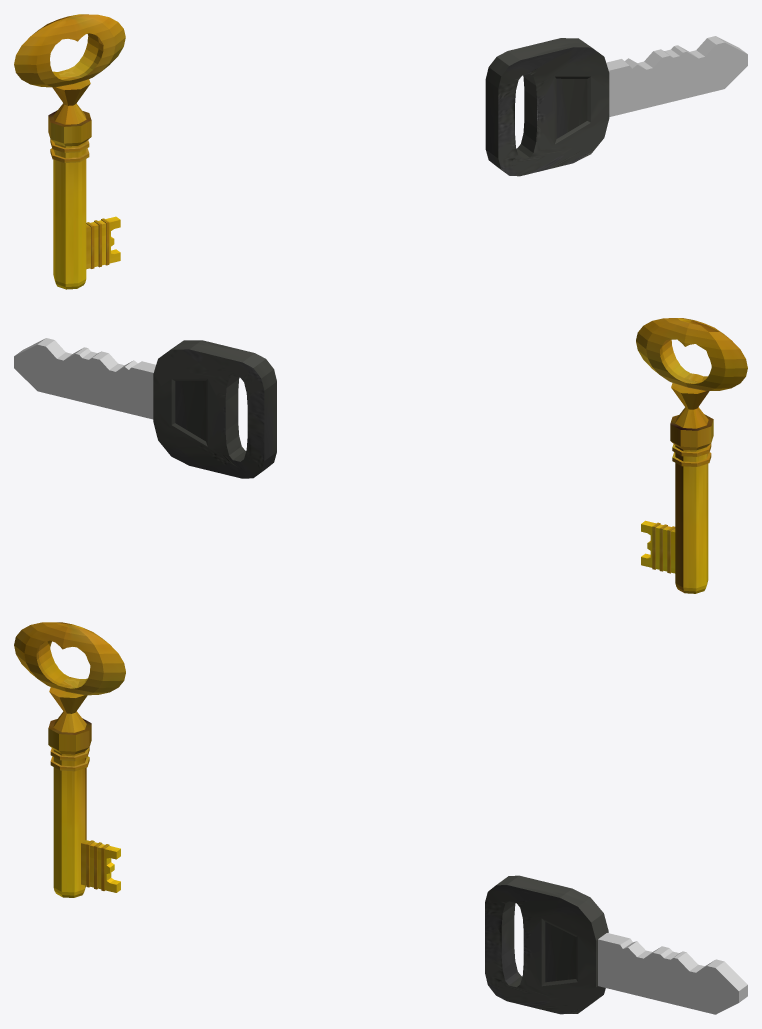
File: llavecitas.fbx
3 views of the same model, one above another, from view 1: azimuth 30°, elevation 25°; view 2: azimuth 150°, elevation 25°; view 3: azimuth 330°, elevation 25° (orthographic).
Parts seen in each view (by area): view 1: Cubo.003, Cilindro.002; view 2: Cubo.003, Cilindro.002; view 3: Cubo.003, Cilindro.002.
Part boxes in pixels (<box>): Cubo.003: <box>485,36,747,176</box>; Cilindro.002: <box>14,14,125,289</box>; Cubo.003: <box>14,338,276,478</box>; Cilindro.002: <box>636,318,747,593</box>; Cubo.003: <box>485,875,747,1014</box>; Cilindro.002: <box>14,622,125,897</box>.
Bounding box in the file's own units: 252 × 88.03 × 13.38.
3 materials, 2 textured.
